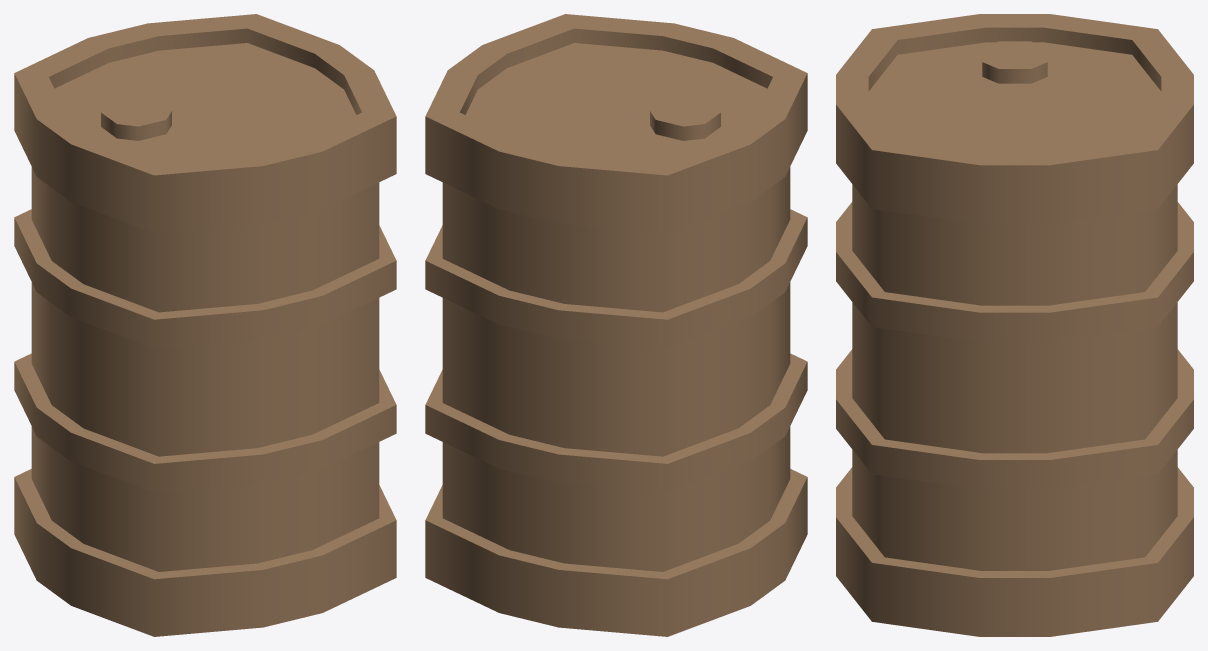
Rendered from barrel.glb.
3 views of the same model, side by side, from view 1: azimuth 30°, elevation 25°; view 2: azimuth 150°, elevation 25°; view 3: azimuth 270°, elevation 25° (orthographic). The views are drawn at different scales.
Parts seen in each view (by area): view 1: barrel; view 2: barrel; view 3: barrel.
Boxes of the visible parts, x1,y1,x2,y2 form: barrel: (14,14,396,636); barrel: (425,14,807,636); barrel: (836,14,1193,636).
Bounding box in the file's own units: 0.2365 × 0.344 × 0.2365.
